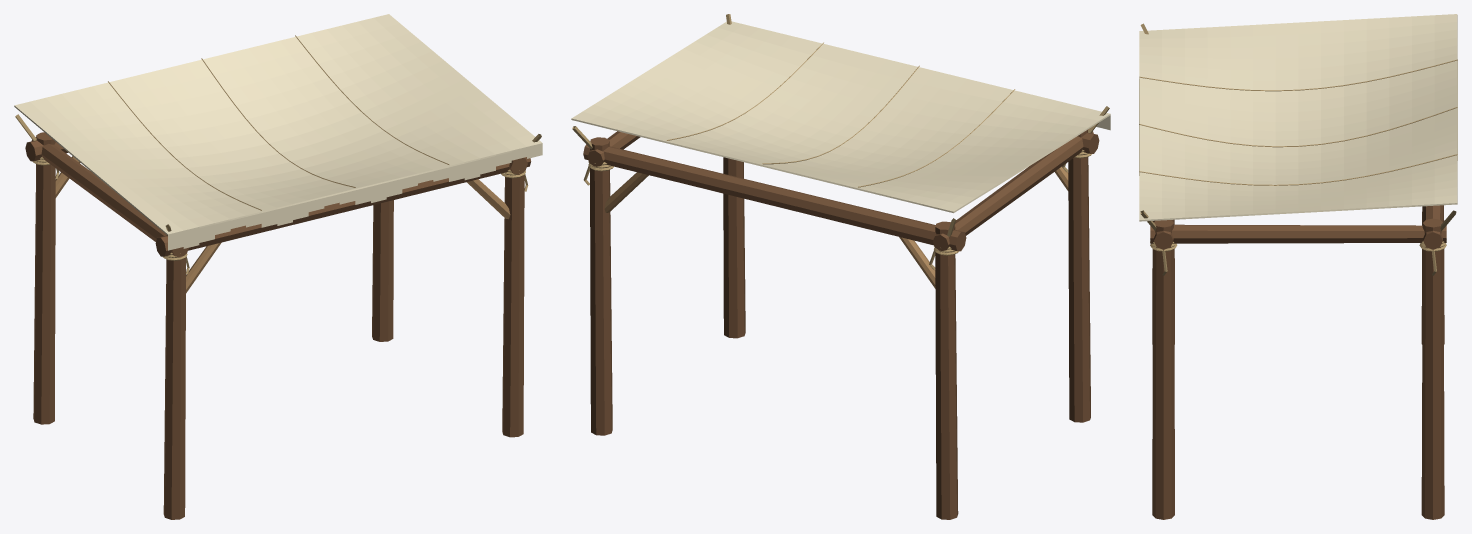
3 views of the same model, side by side, from view 1: azimuth 30°, elevation 25°; view 2: azimuth 150°, elevation 25°; view 3: azimuth 270°, elevation 25° (orthographic). The views are drawn at different scales.
Visible parts, largest first — view 1: BA-0002 batched; view 2: BA-0002 batched; view 3: BA-0002 batched.
Boxes of the visible parts, x1,y1,x2,y2 form: BA-0002 batched: (14, 14, 542, 519); BA-0002 batched: (571, 14, 1110, 519); BA-0002 batched: (1139, 14, 1457, 519).
Size of the model in its own units: 3.33 by 2.64 by 2.37.
